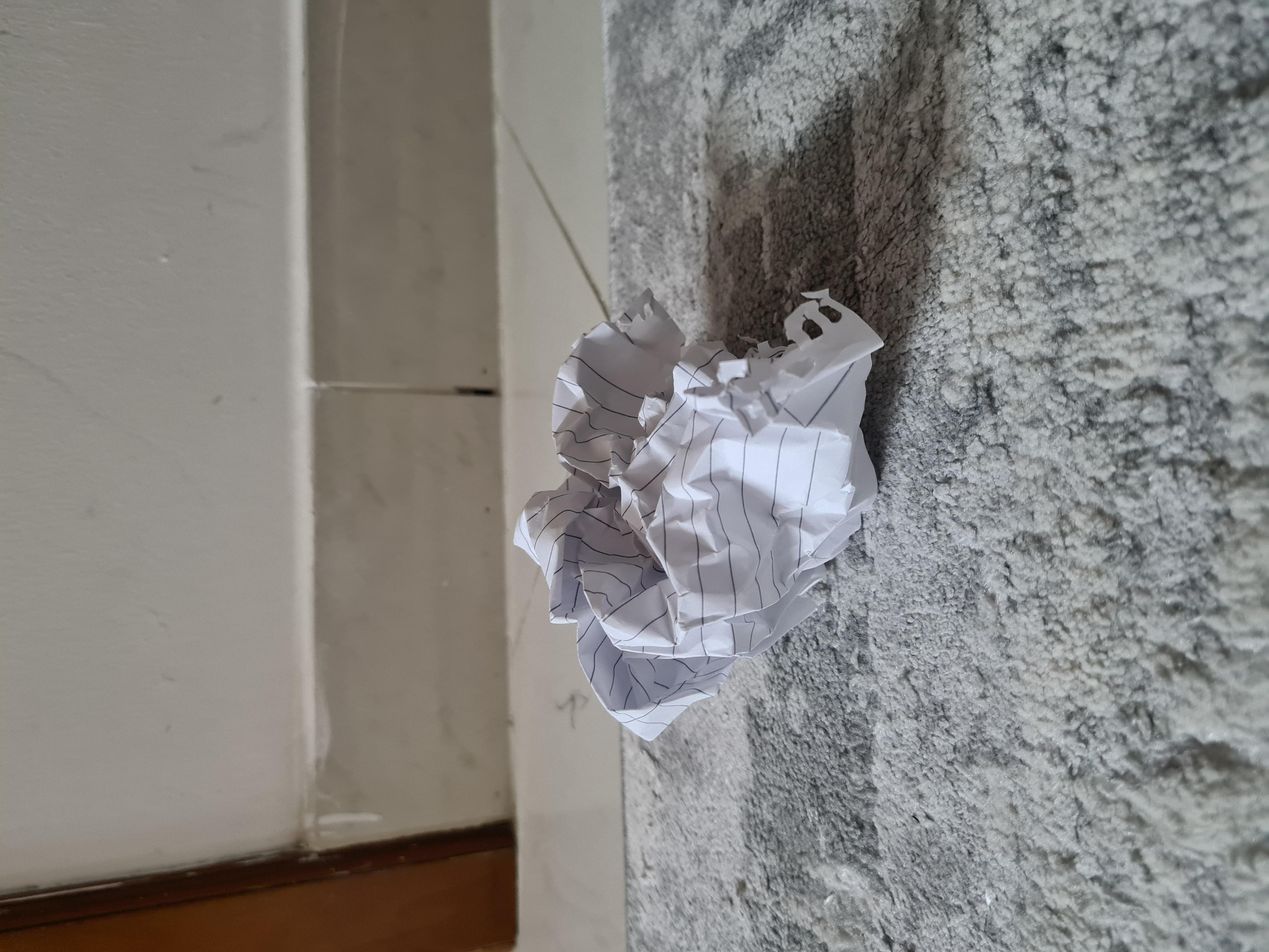paper: (311, 388, 891, 655)
